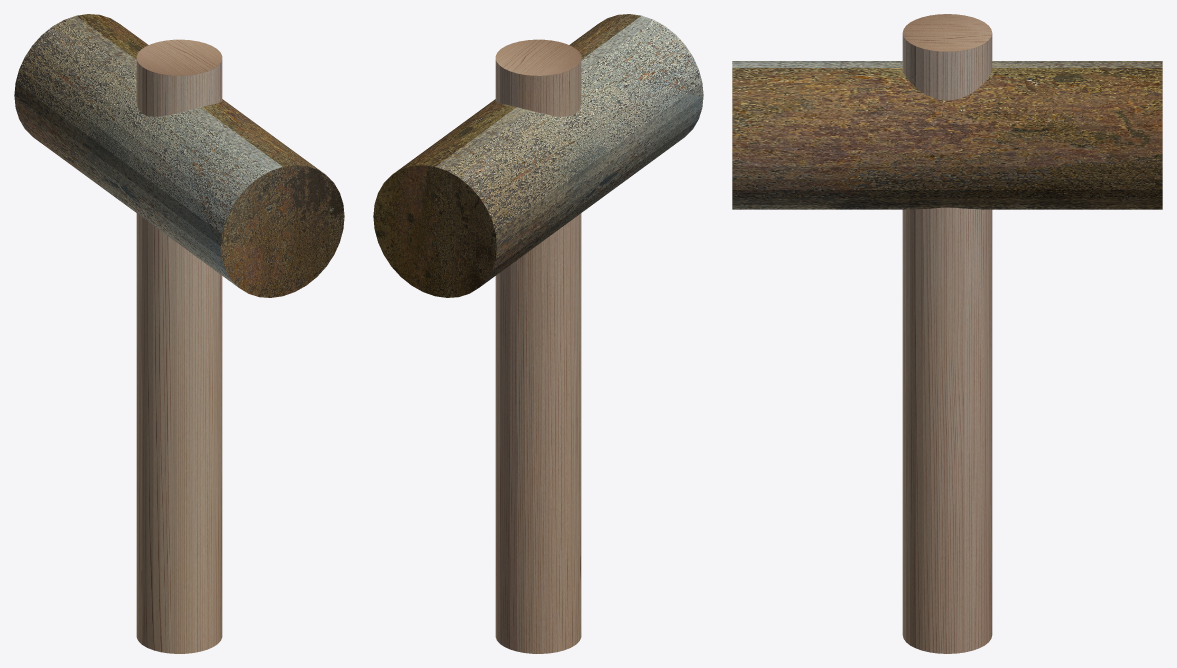
Rendered from hammer.gltf.
The picture shows the model from 3 angles, left to right: view 1: azimuth 30°, elevation 25°; view 2: azimuth 150°, elevation 25°; view 3: azimuth 270°, elevation 25°; orthographic projection. The views are drawn at different scales.
Parts seen in each view (by area): view 1: 金属, 木; view 2: 金属, 木; view 3: 金属, 木.
Part boxes in pixels (x1=…): 金属: x1=14, y1=14, x2=344, y2=297; 木: x1=136, y1=39, x2=222, y2=653; 金属: x1=373, y1=14, x2=703, y2=297; 木: x1=495, y1=39, x2=581, y2=653; 金属: x1=732, y1=61, x2=1162, y2=209; 木: x1=902, y1=14, x2=992, y2=653.
Size of the model in its own units: 2 by 8.94 by 5.79.
Materials: 2 (2 with a texture image).
